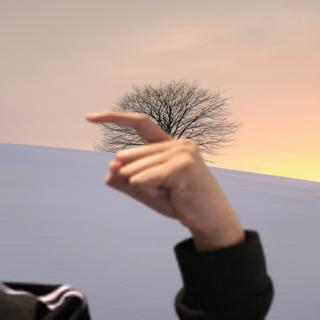WHY: (79, 103, 242, 242)
